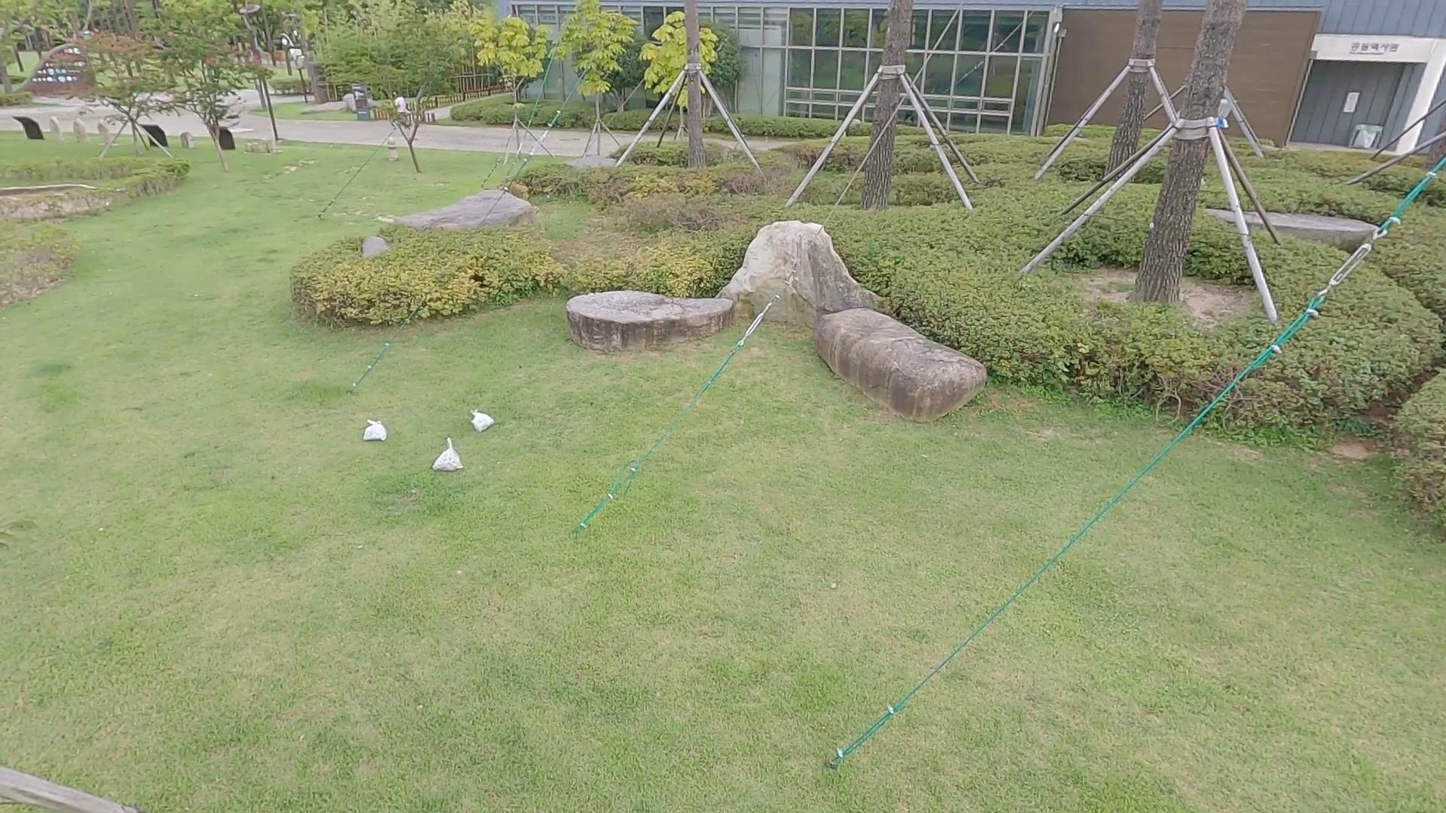trash: (463, 395, 500, 444), (358, 415, 398, 448), (426, 440, 462, 475)
